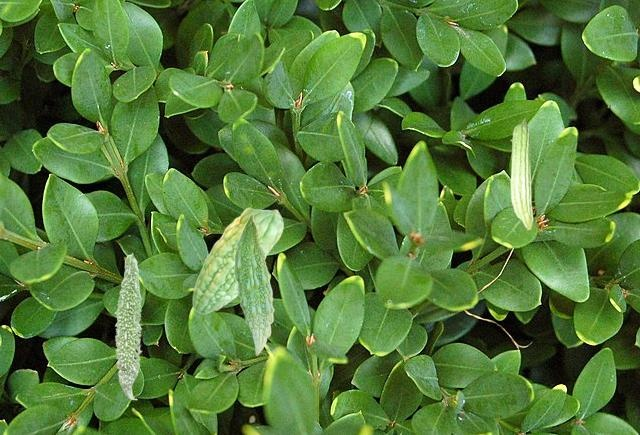ampalaya: (192, 207, 284, 314), (234, 214, 274, 356), (114, 252, 143, 400), (510, 118, 533, 230)
